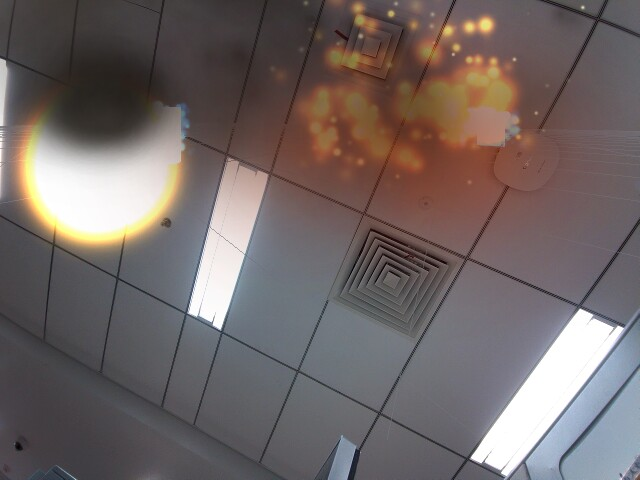fire: (19, 79, 186, 249)
